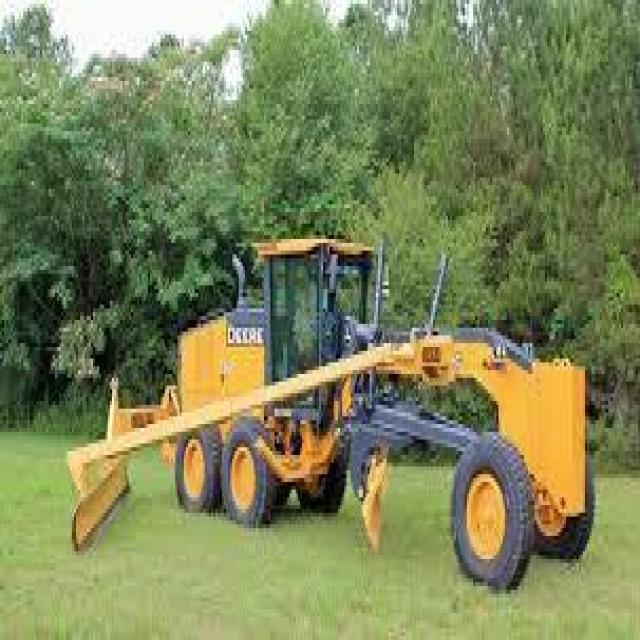Grader: (59, 220, 585, 594)
